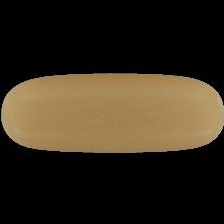42291-257: (0, 0, 224, 224)
